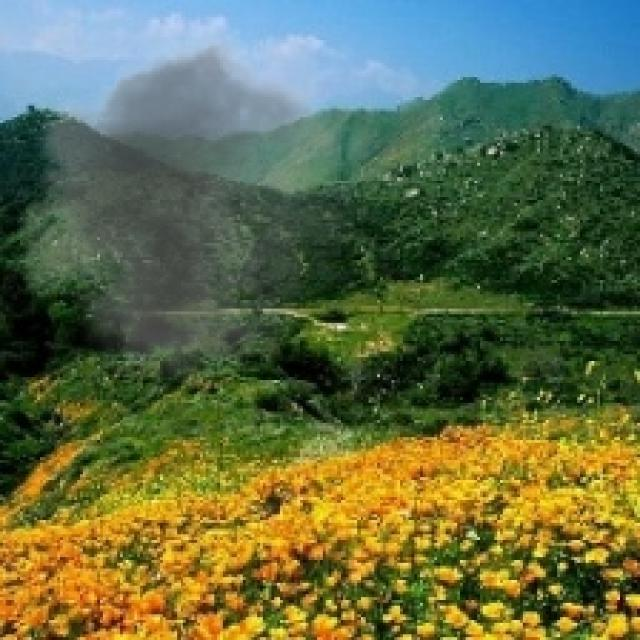Smoke: (3, 17, 383, 383)
